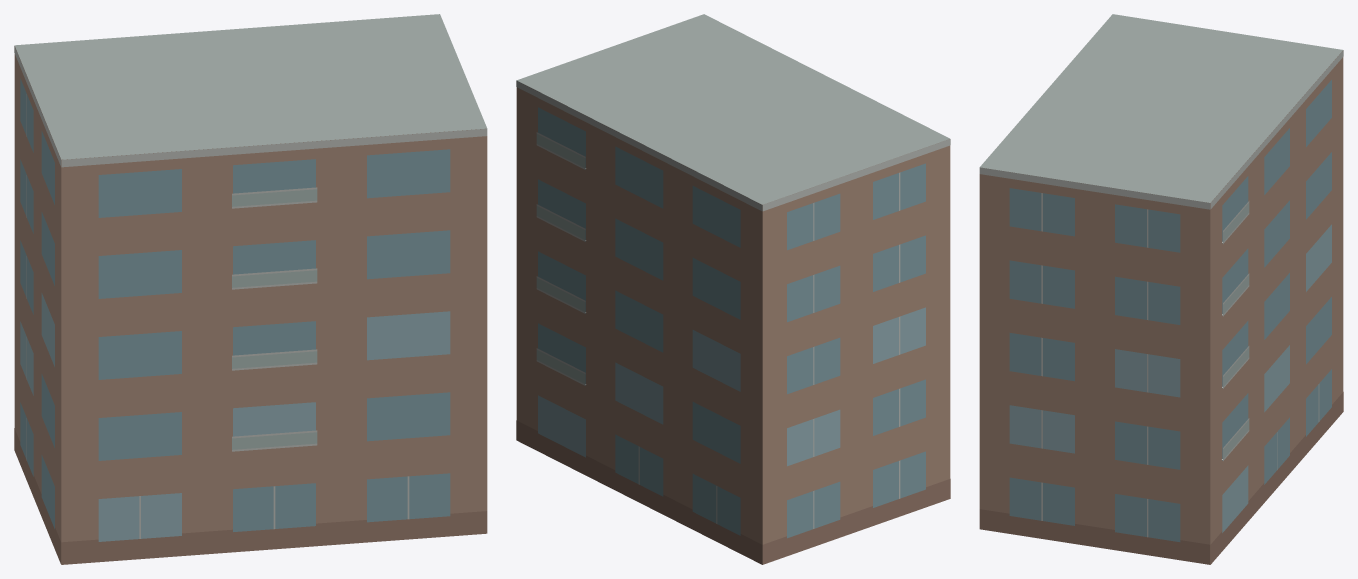
Rendered from survey-upis-32812709.glb.
3 views of the same model, side by side, from view 1: azimuth 30°, elevation 25°; view 2: azimuth 150°, elevation 25°; view 3: azimuth 270°, elevation 25° (orthographic). The views are drawn at different scales.
Visible parts, largest first — view 1: survey-upis-32812709.tmp; view 2: survey-upis-32812709.tmp; view 3: survey-upis-32812709.tmp.
Part boxes in pixels (x1=…): survey-upis-32812709.tmp: x1=14, y1=14, x2=487, y2=564; survey-upis-32812709.tmp: x1=516, y1=14, x2=950, y2=564; survey-upis-32812709.tmp: x1=979, y1=14, x2=1343, y2=564.
Size of the model in its own units: 14.74 by 13.15 by 11.99.
